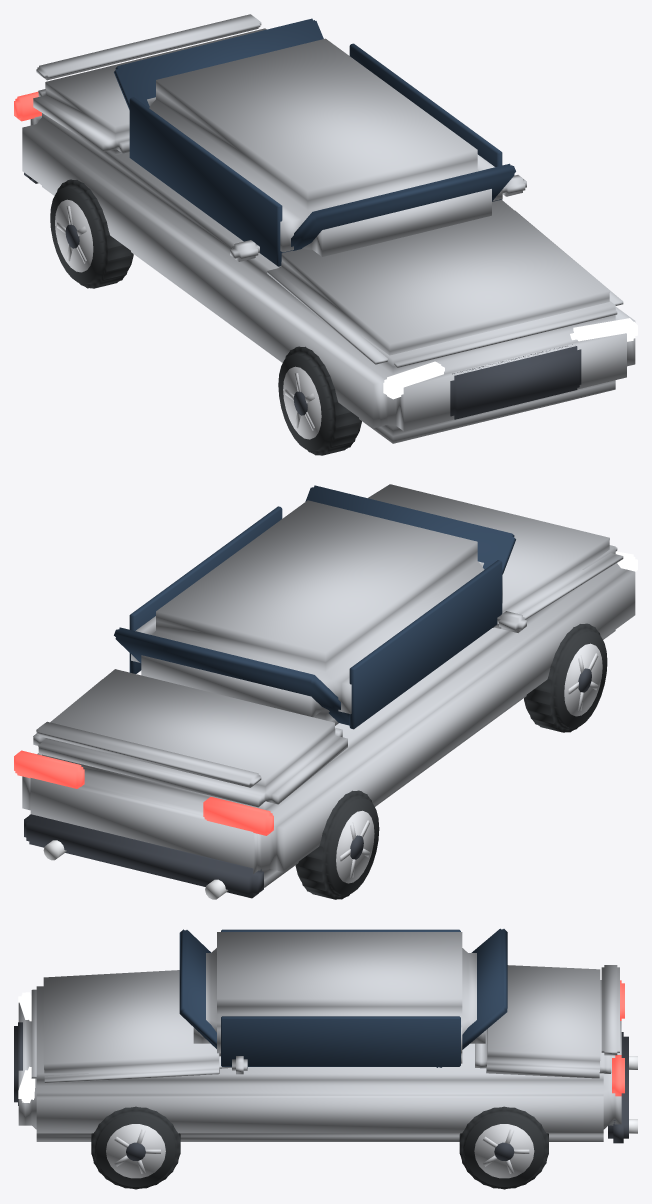
The model's file is sedan_euro.glb.
3 views of the same model, one above another, from view 1: azimuth 30°, elevation 25°; view 2: azimuth 150°, elevation 25°; view 3: azimuth 270°, elevation 25° (orthographic). The views are drawn at different scales.
Visible parts, largest first — view 1: body_cabin, body_lower, body_hood, glass_side_l, body_trunk, front_grille, glass_rear, glass_front, wheel_fr_tire, wheel_rr_tire, trunk_spoiler, glass_side_r (+4 smaller); view 2: body_lower, body_cabin, body_trunk, body_hood, glass_side_l, rear_diffuser, glass_rear, glass_front, wheel_rr_tire, wheel_fr_tire, trunk_spoiler, glass_side_r (+4 smaller); view 3: body_lower, body_cabin, body_hood, glass_side_r, body_trunk, wheel_fl_tire, wheel_rl_tire, glass_rear, glass_front, wheel_rl_rim, wheel_fl_rim, trunk_spoiler (+7 smaller).
Part boxes in pixels (x1,y1,x2,y2): body_cabin: (147,38,502,256); body_lower: (22,113,635,443); body_hood: (267,199,623,367); glass_side_l: (129,97,282,266); body_trunk: (33,28,266,154); front_grille: (450,344,581,419); glass_rear: (114,18,323,109); glass_front: (282,163,515,252); wheel_fr_tire: (278,346,361,455); wheel_rr_tire: (50,179,133,288); trunk_spoiler: (36,14,261,80); glass_side_r: (349,43,502,201); body_lower: (22,545,635,887); body_cabin: (131,500,502,725); body_trunk: (33,669,347,807); body_hood: (368,484,623,628); glass_side_l: (349,560,502,729); rear_diffuser: (24,814,263,898); glass_rear: (114,627,349,725); glass_front: (305,485,515,574); wheel_rr_tire: (295,790,379,899); wheel_fr_tire: (524,623,607,732); trunk_spoiler: (36,721,261,787); glass_side_r: (129,506,282,673); body_lower: (18,986,621,1141); body_cabin: (193,932,485,1063); body_hood: (31,970,231,1083); glass_side_r: (221,1016,460,1066); body_trunk: (475,965,611,1078); wheel_fl_tire: (91,1106,180,1189); wheel_rl_tire: (459,1106,548,1189); glass_rear: (436,928,507,1067); glass_front: (179,929,247,1068); wheel_rl_rim: (474,1124,534,1178); wheel_fl_rim: (106,1124,165,1178); trunk_spoiler: (601,965,619,1055).
Bounding box in the file's own units: 2.1 × 1.46 × 4.81.
